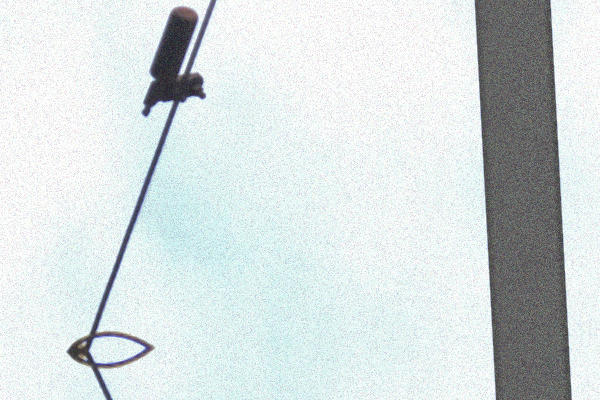damper_defect: (135, 4, 210, 125)
